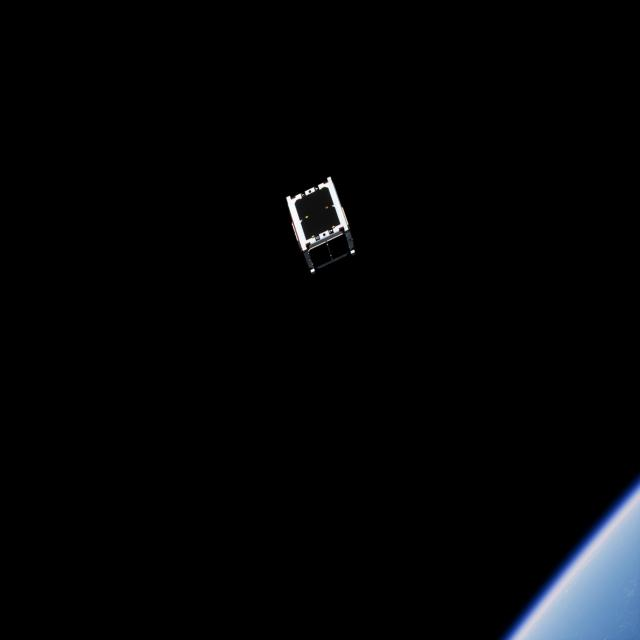satellite: (286, 180, 356, 280)
